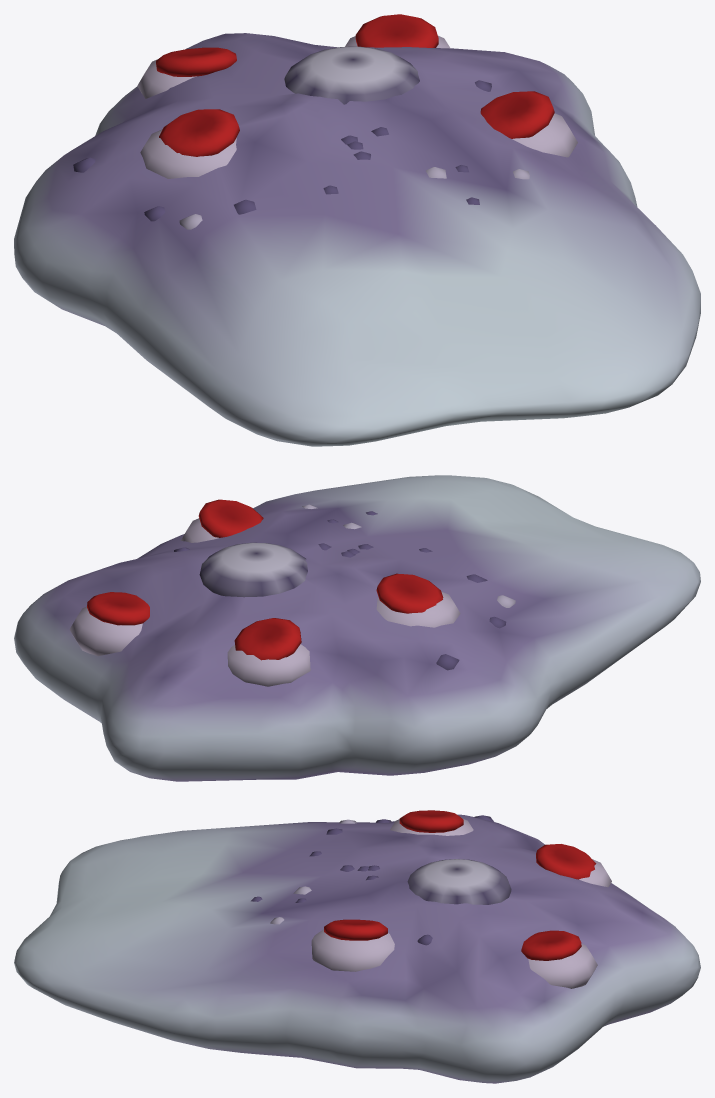
The model's file is Entamoeba.fbx.
The picture shows the model from 3 angles, top to bottom: view 1: azimuth 30°, elevation 25°; view 2: azimuth 150°, elevation 25°; view 3: azimuth 270°, elevation 25°; orthographic projection. The views are drawn at different scales.
Visible parts, largest first — view 1: Entamoeba; view 2: Entamoeba; view 3: Entamoeba.
Boxes of the visible parts, x1,y1,x2,y2 form: Entamoeba: (14,14,700,446); Entamoeba: (14,475,700,781); Entamoeba: (14,810,700,1083).
Size of the model in its own units: 1.24 by 0.461 by 1.63.
